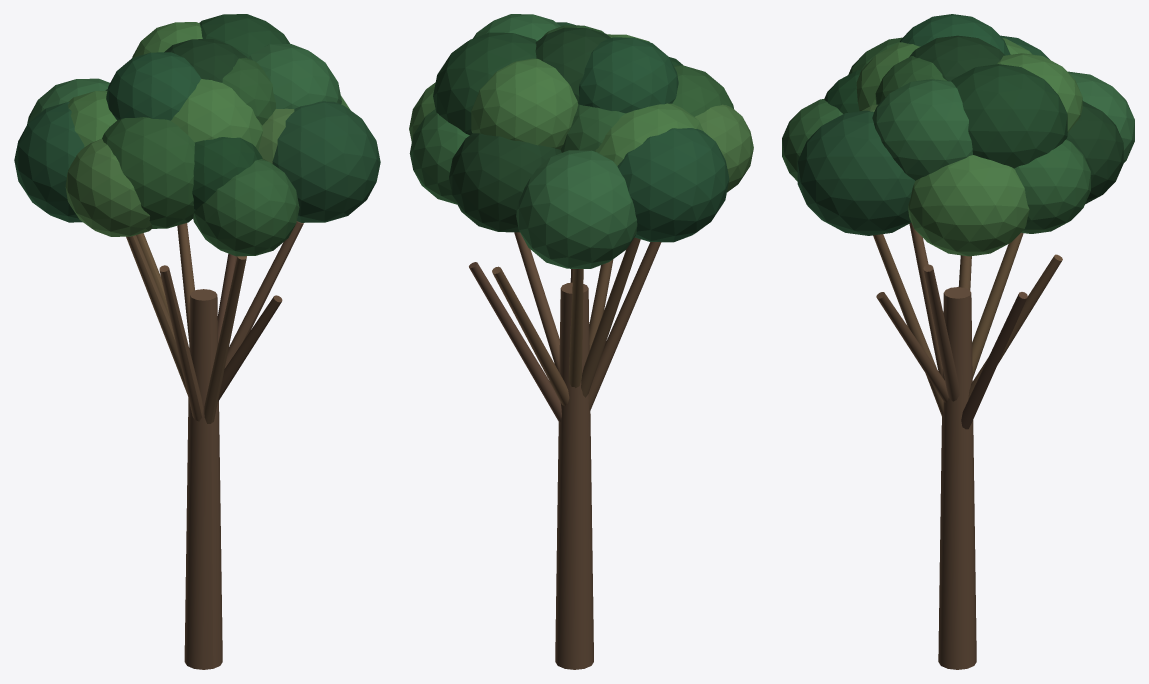
File: broadleaf-oval.near.glb
3 views of the same model, side by side, from view 1: azimuth 30°, elevation 25°; view 2: azimuth 150°, elevation 25°; view 3: azimuth 270°, elevation 25° (orthographic).
Parts seen in each view (by area): view 1: foliage, wood; view 2: foliage, wood; view 3: foliage, wood.
Part boxes in pixels (bbox=[...]): foliage: bbox=[14, 14, 380, 256]; wood: bbox=[126, 221, 303, 669]; foliage: bbox=[409, 14, 753, 268]; wood: bbox=[469, 232, 661, 669]; foliage: bbox=[782, 14, 1134, 256]; wood: bbox=[873, 222, 1062, 669].
Size of the model in its own units: 6.23 by 12 by 6.19.
